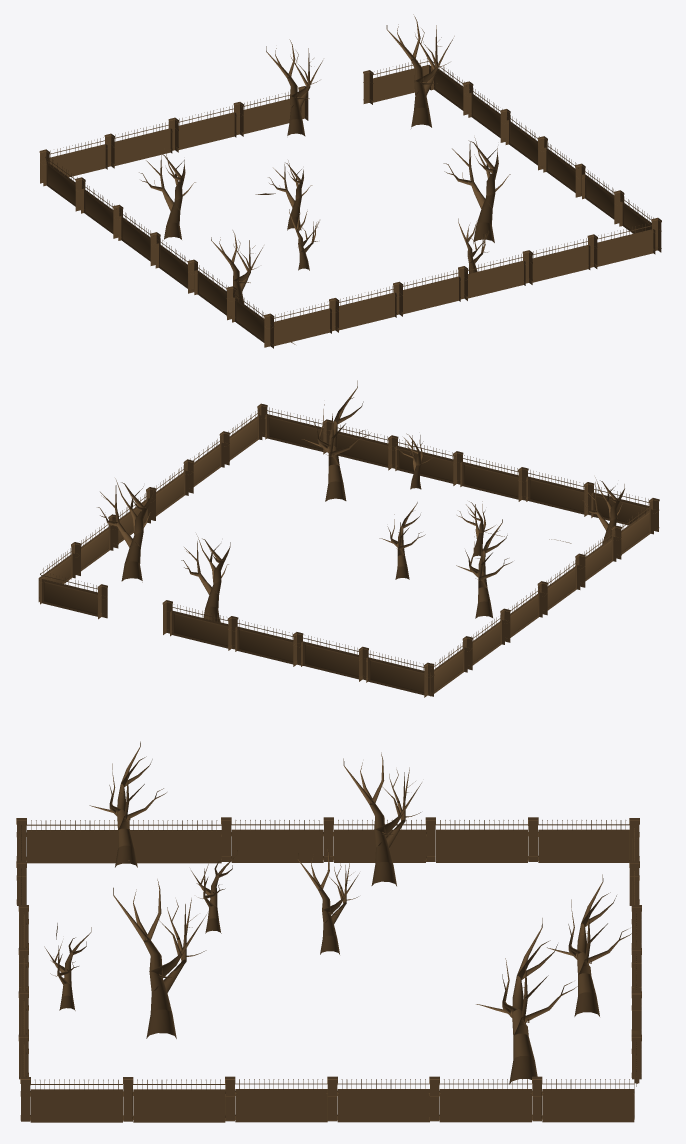
File: material2.008_lev3.glb
The picture shows the model from 3 angles, top to bottom: view 1: azimuth 30°, elevation 25°; view 2: azimuth 150°, elevation 25°; view 3: azimuth 270°, elevation 25°; orthographic projection. The views are drawn at different scales.
Parts seen in each view (by area): view 1: material2.008_lev3; view 2: material2.008_lev3; view 3: material2.008_lev3.
Boxes of the visible parts, x1,y1,x2,y2 form: material2.008_lev3: [39, 14, 661, 348]; material2.008_lev3: [38, 380, 659, 697]; material2.008_lev3: [16, 741, 641, 1122].
Size of the model in its own units: 3.71 by 0.9675 by 3.71.
